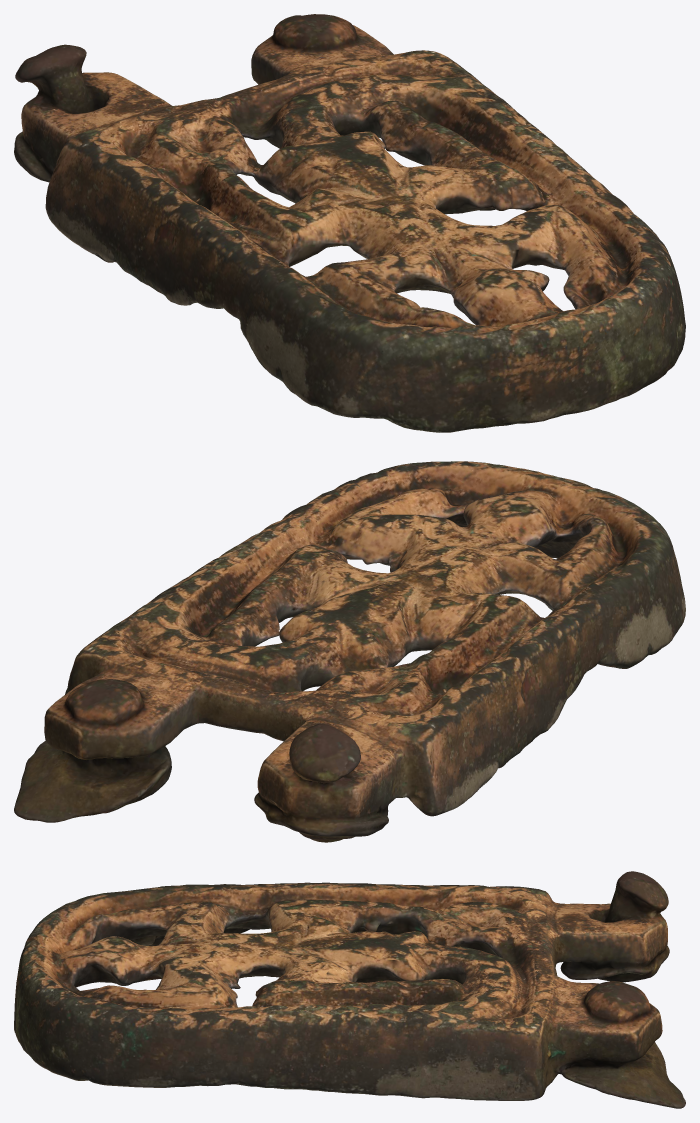
3 views of the same model, one above another, from view 1: azimuth 30°, elevation 25°; view 2: azimuth 150°, elevation 25°; view 3: azimuth 270°, elevation 25° (orthographic). The views are drawn at different scales.
Visible parts, largest first — view 1: mesh1; view 2: mesh1; view 3: mesh1.
Part boxes in pixels (x1=…): mesh1: x1=14, y1=14, x2=685, y2=432; mesh1: x1=14, y1=461, x2=685, y2=842; mesh1: x1=14, y1=871, x2=685, y2=1108.
Size of the model in its own units: 0.0226 by 0.00753 by 0.0396.
Materials: 1 (1 with a texture image).
